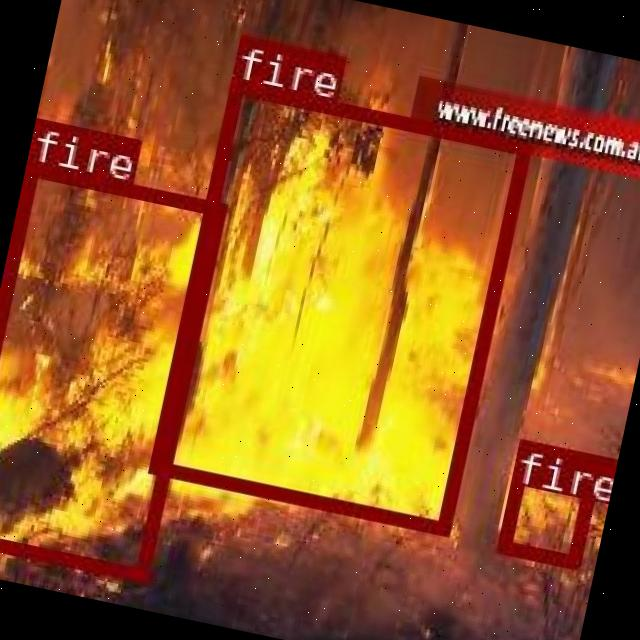fire: (148, 76, 529, 532), (0, 161, 222, 579), (494, 436, 600, 566)
